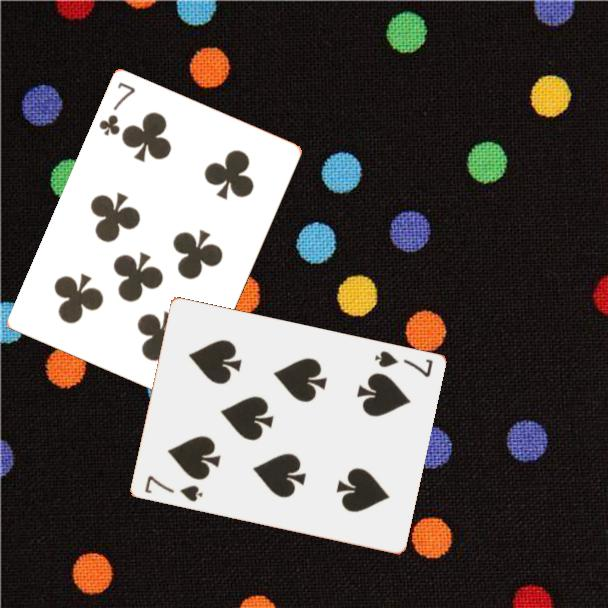c07: (96, 79, 138, 139)
s07: (371, 347, 435, 381), (141, 472, 205, 505)
